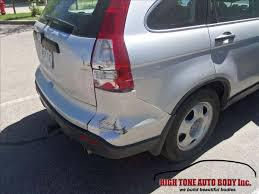rear-bumper-dent: (83, 76, 146, 147)
